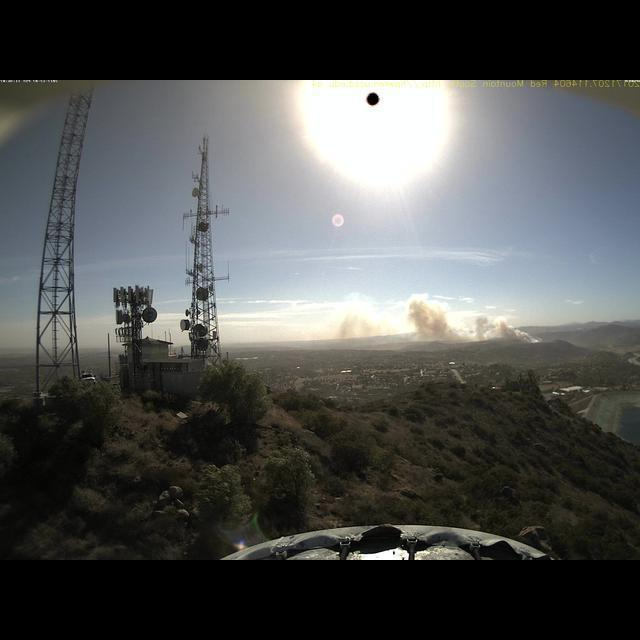Smoke: (319, 288, 548, 342)
